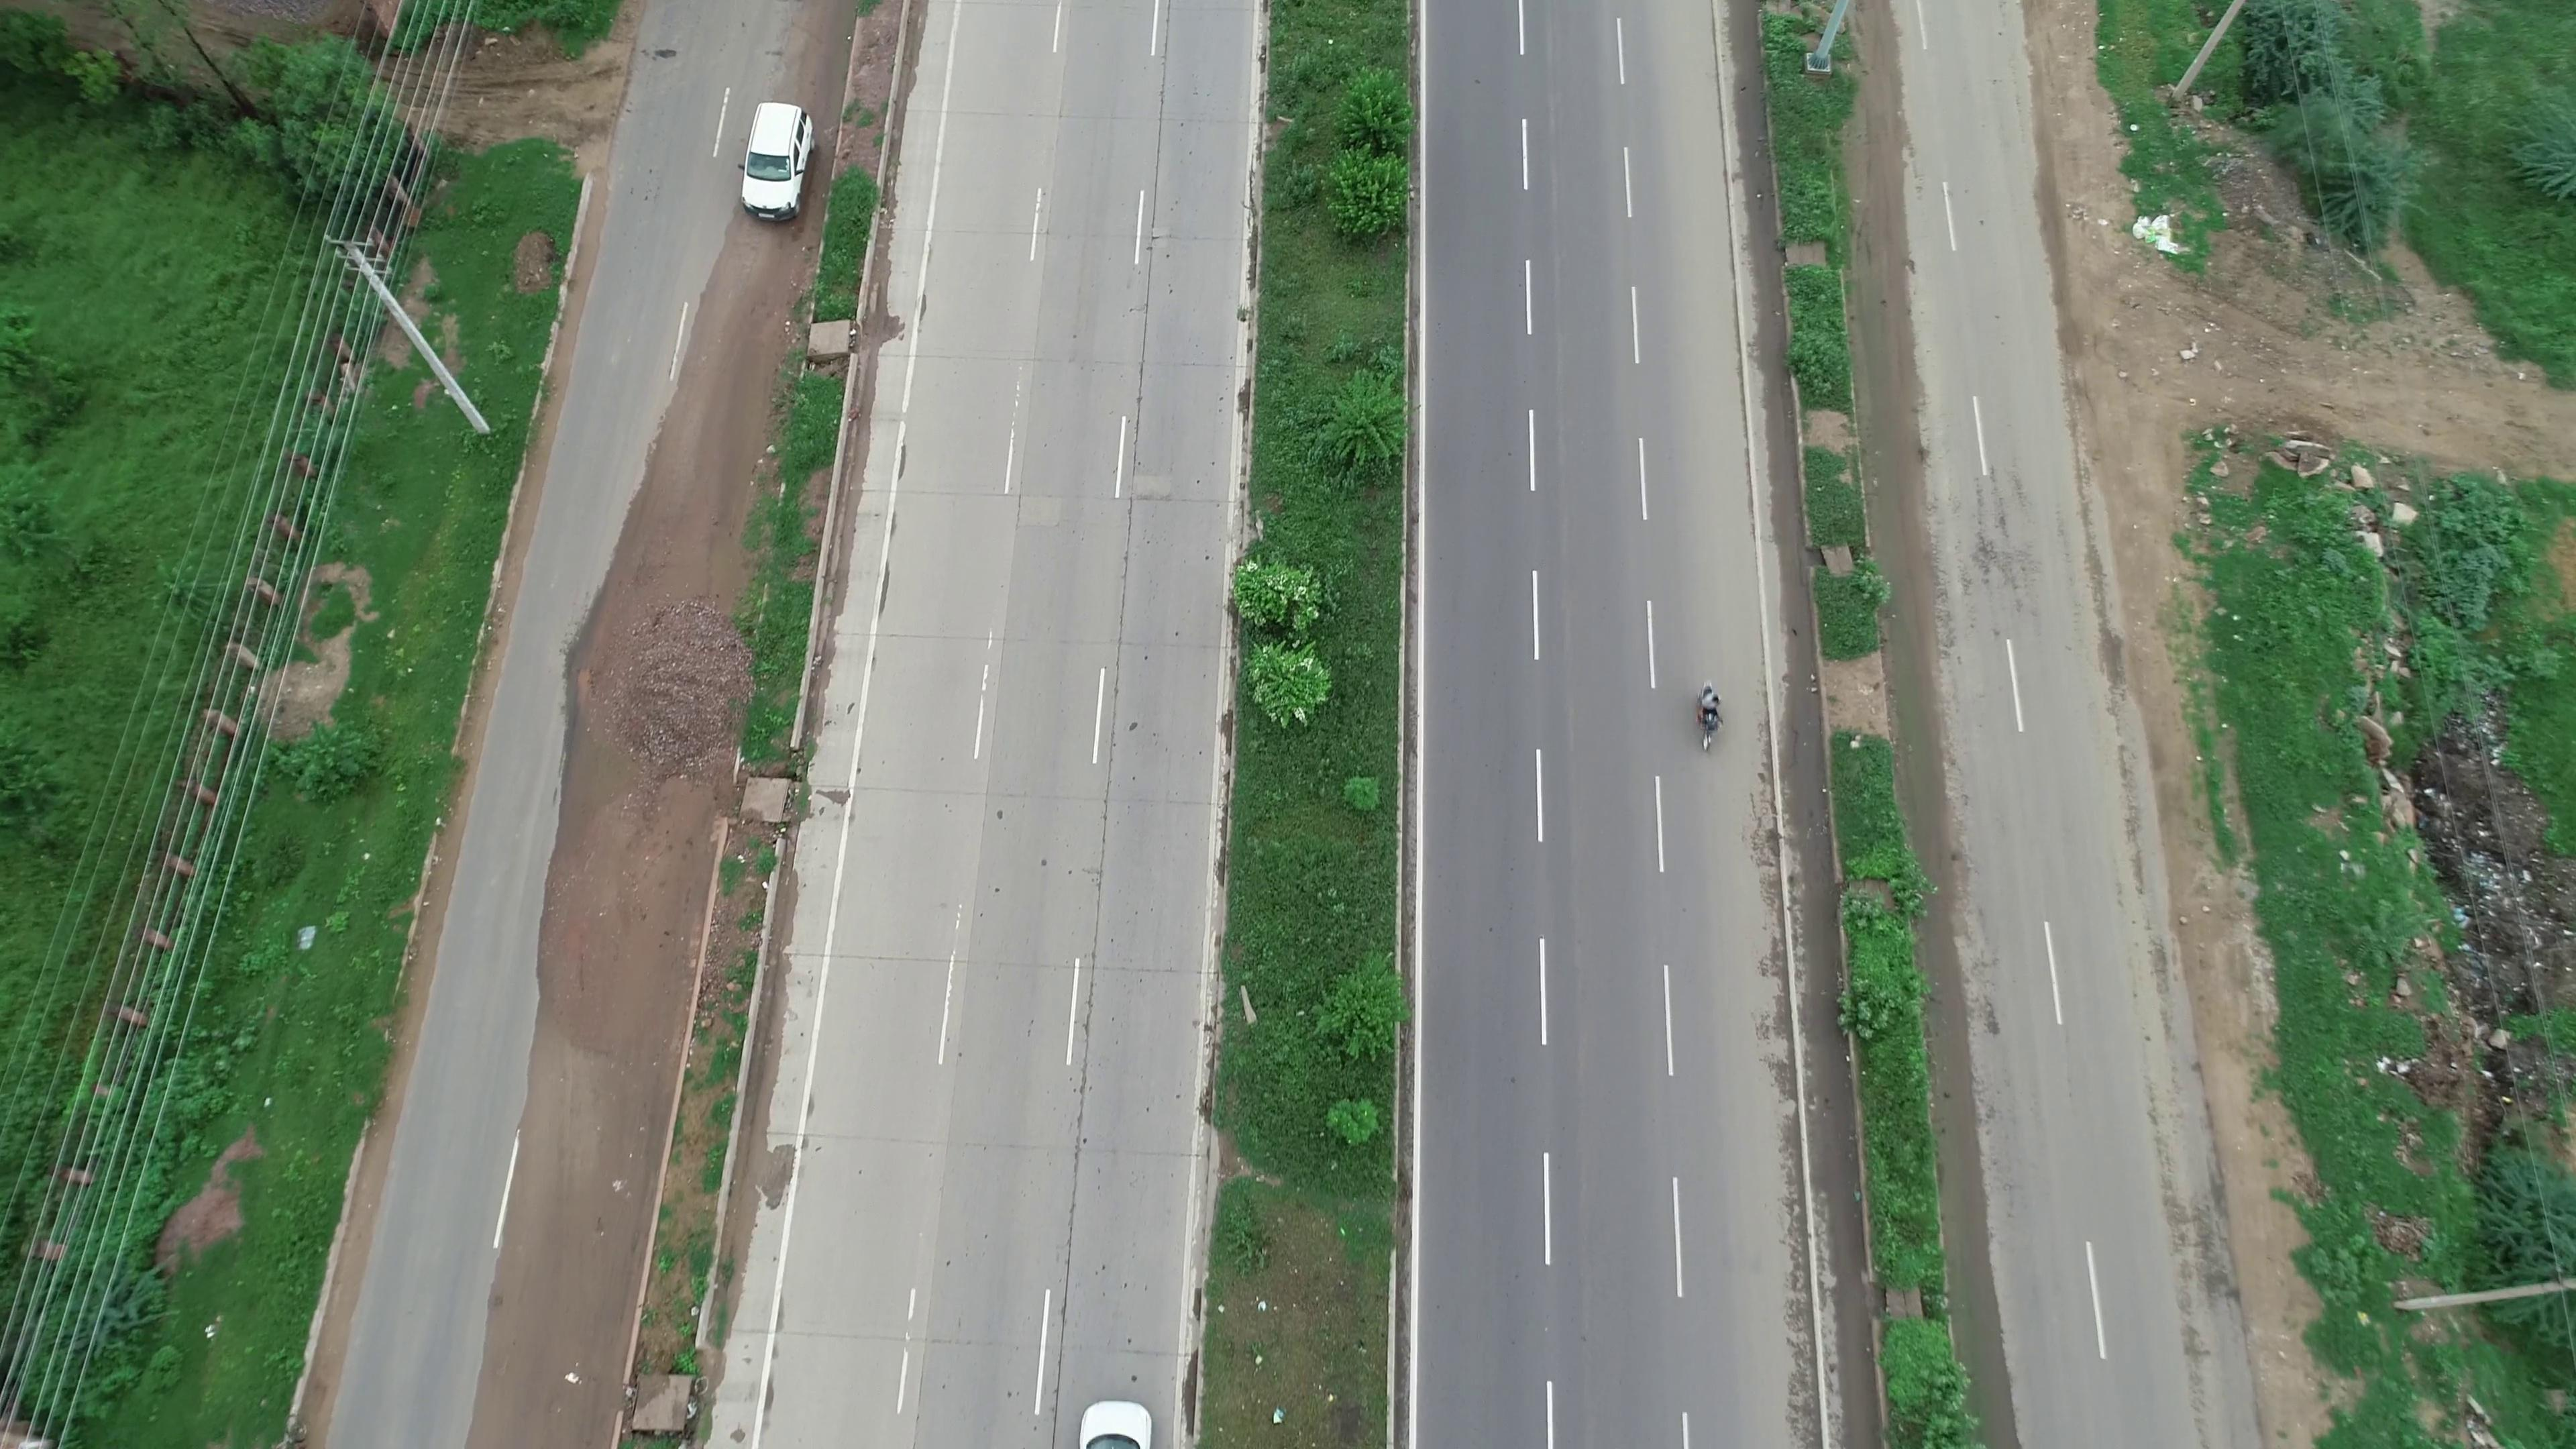Muddy_road: (506, 596, 725, 1037), (467, 1074, 642, 1437), (589, 292, 777, 587)
